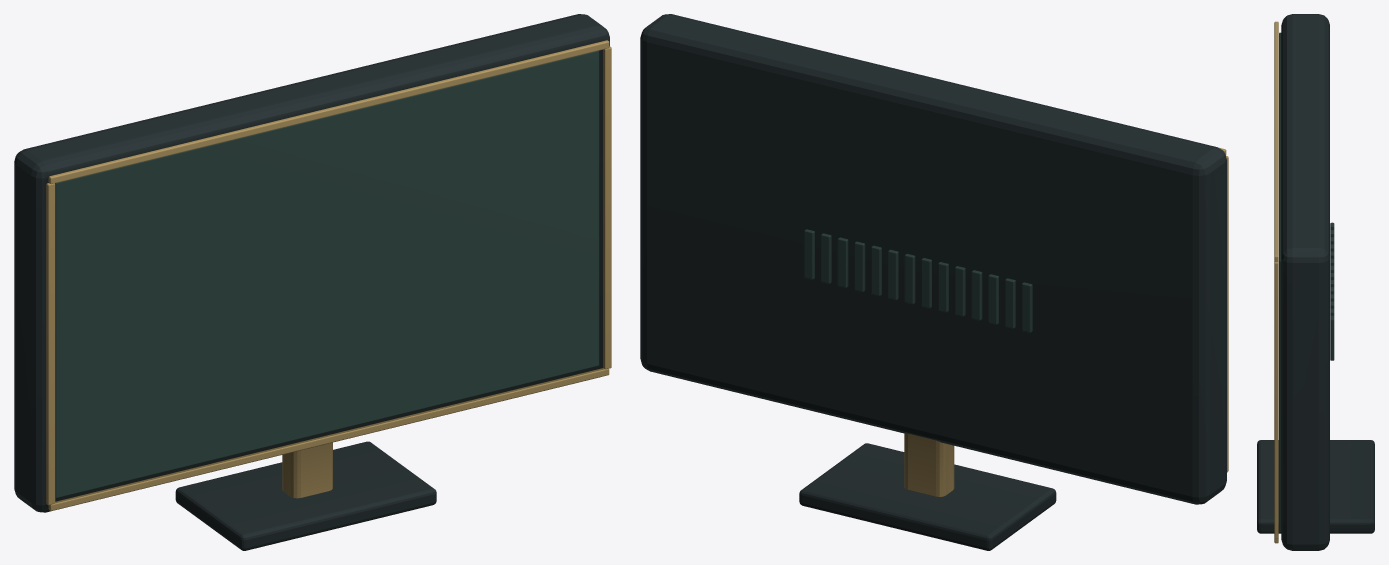
The model's file is monitor-estudos-revisao.glb.
The picture shows the model from 3 angles, left to right: view 1: azimuth 30°, elevation 25°; view 2: azimuth 150°, elevation 25°; view 3: azimuth 270°, elevation 25°; orthographic projection. The views are drawn at different scales.
Parts seen in each view (by area): view 1: EscolaRevisao_Sala_Salvia_Acabado.003, EscolaRevisao_Sala_Grafite_Acabado.003, EscolaRevisao_Sala_Latao_Acabado.003; view 2: EscolaRevisao_Sala_Grafite_Acabado.003, EscolaRevisao_Sala_Salvia_Acabado.003, EscolaRevisao_Sala_Latao_Acabado.003; view 3: EscolaRevisao_Sala_Grafite_Acabado.003, EscolaRevisao_Sala_Latao_Acabado.003, EscolaRevisao_Sala_Salvia_Acabado.003.
Part boxes in pixels (x1=…): EscolaRevisao_Sala_Salvia_Acabado.003: x1=55, y1=50, x2=599, y2=498; EscolaRevisao_Sala_Grafite_Acabado.003: x1=14, y1=14, x2=609, y2=550; EscolaRevisao_Sala_Latao_Acabado.003: x1=46, y1=40, x2=611, y2=510; EscolaRevisao_Sala_Grafite_Acabado.003: x1=640, y1=14, x2=1226, y2=550; EscolaRevisao_Sala_Salvia_Acabado.003: x1=804, y1=229, x2=1032, y2=332; EscolaRevisao_Sala_Latao_Acabado.003: x1=904, y1=147, x2=1228, y2=497; EscolaRevisao_Sala_Grafite_Acabado.003: x1=1257, y1=14, x2=1374, y2=550; EscolaRevisao_Sala_Latao_Acabado.003: x1=1274, y1=21, x2=1278, y2=543; EscolaRevisao_Sala_Salvia_Acabado.003: x1=1279, y1=32, x2=1334, y2=532.
Bounding box in the file's own units: 1.12 × 0.78 × 0.23.
